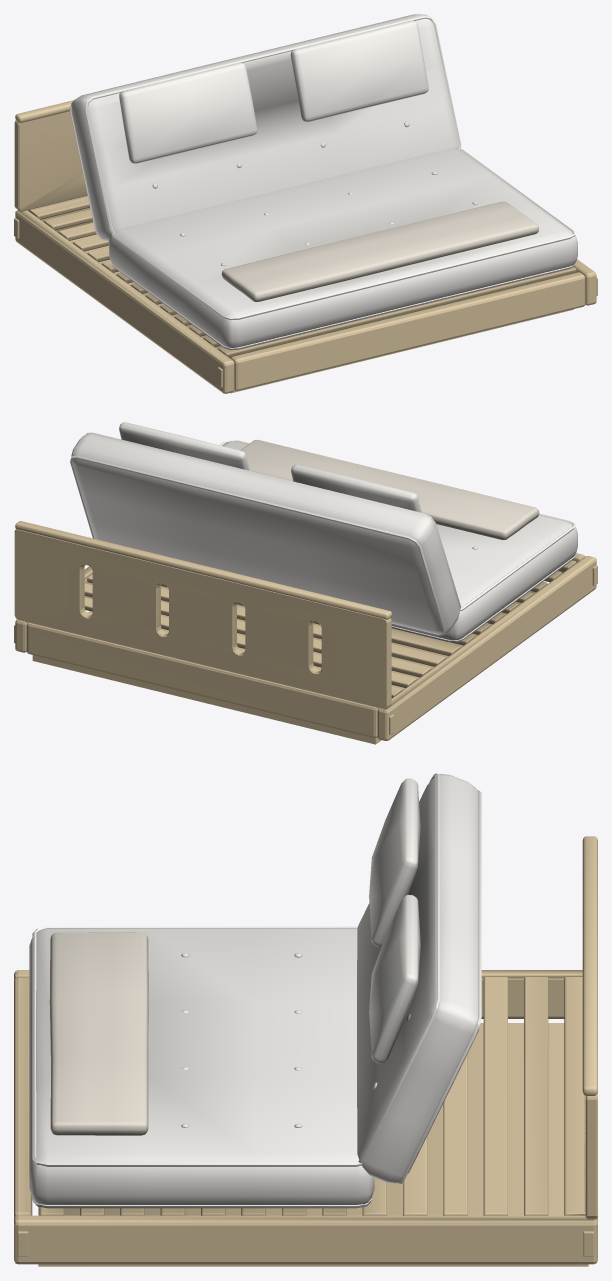
Rendered from bedFuton.glb.
The picture shows the model from 3 angles, top to bottom: view 1: azimuth 30°, elevation 25°; view 2: azimuth 150°, elevation 25°; view 3: azimuth 270°, elevation 25°; orthographic projection. The views are drawn at different scales.
Parts seen in each view (by area): view 1: futon, futon_back; view 2: futon, futon_back; view 3: futon, futon_back.
Part boxes in pixels (box(x1,y1,x2,y2)): futon: box(14, 100, 597, 393); futon_back: box(70, 14, 461, 241); futon: box(14, 439, 597, 744); futon_back: box(70, 422, 460, 635); futon: box(14, 836, 597, 1266); futon_back: box(357, 773, 481, 1183).
Size of the model in its own units: 1.98 by 0.9906 by 1.91.
